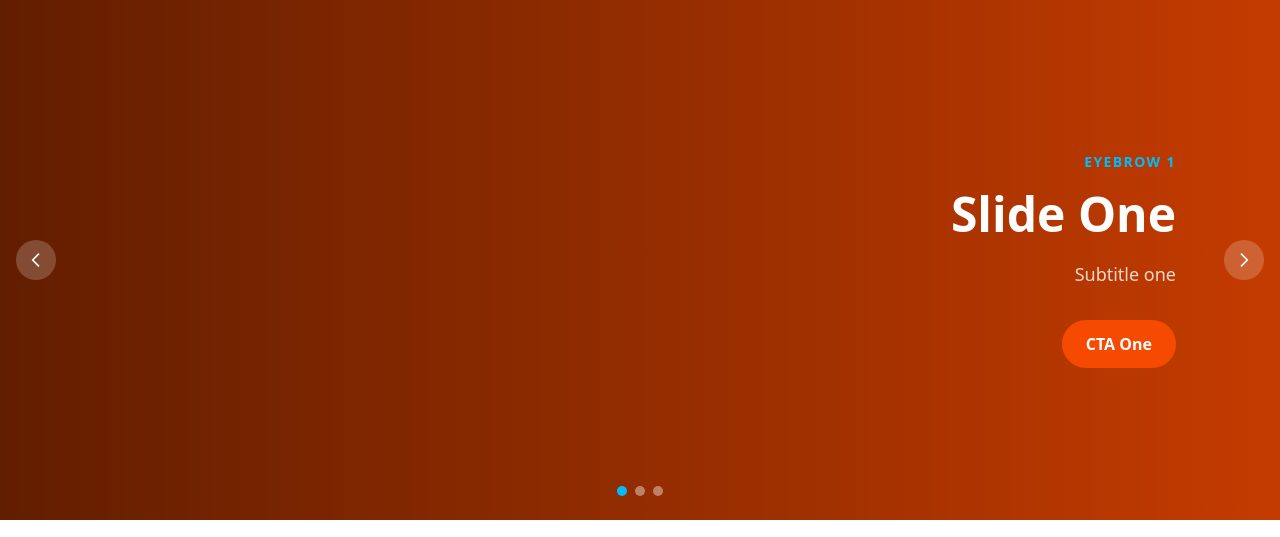
Scenario: HeroSlider › advances to the next slide when the next arrow is clicked
This screenshot has width=1280, height=537.
Click the button named "Next slide" at x=1244, y=260, box [1224,240,1264,280]
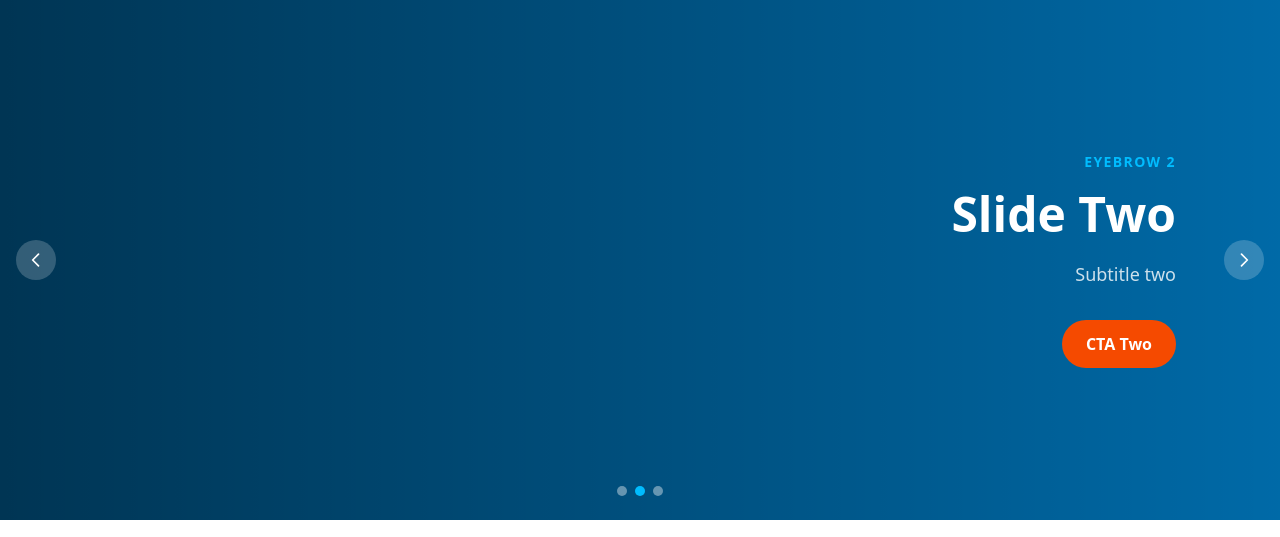
Check: the text "Slide Two" is shown, box [951,184,1176,244]
